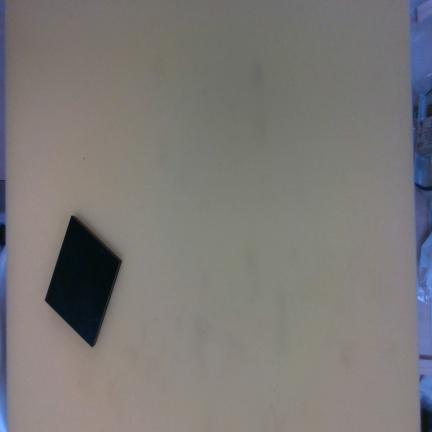tile: (35, 214, 128, 347)
